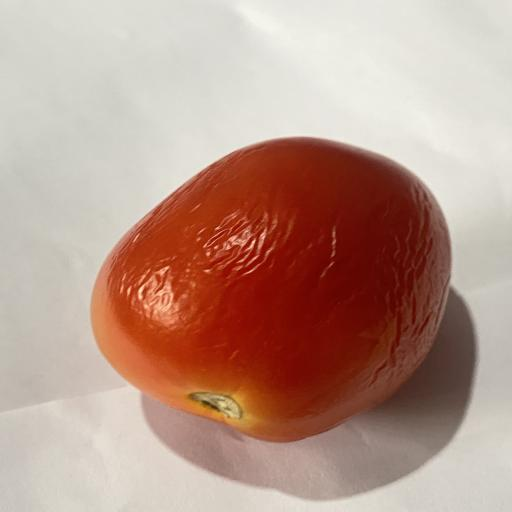spoiled: (91, 137, 451, 442)
